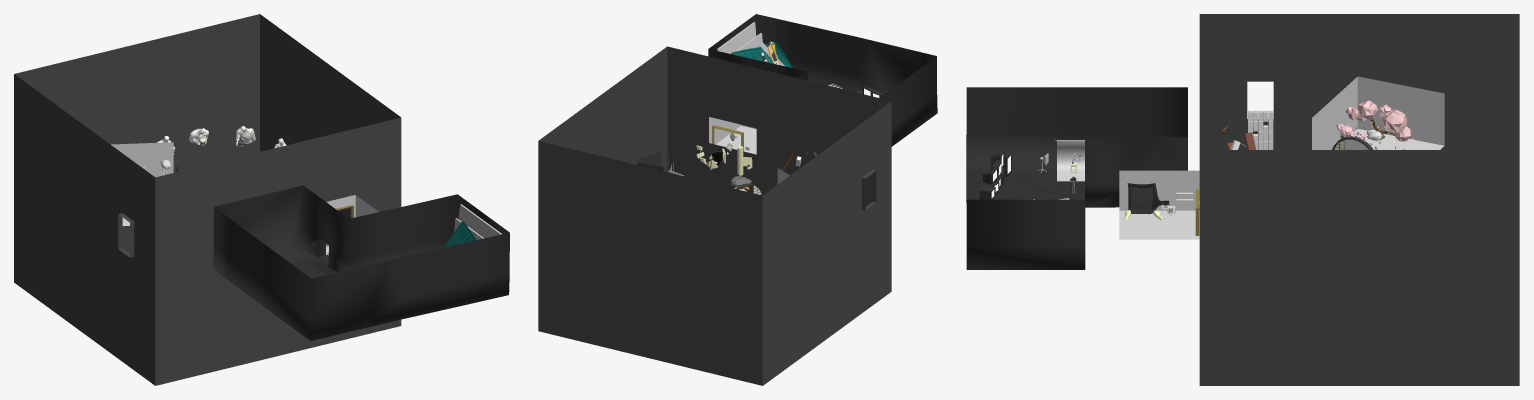
Rendered from stage-test-18.glb.
The picture shows the model from 3 angles, left to right: view 1: azimuth 30°, elevation 25°; view 2: azimuth 150°, elevation 25°; view 3: azimuth 270°, elevation 25°; orthographic projection. The views are drawn at different scales.
Visible parts, largest first — view 1: gallery-ground, monitor-screen-world, digital-world, foam-board-02, comforting-dinner-baked-johns.003, room; view 2: gallery-ground, monitor-screen-world, room, cutting-mat, foam-board-02; view 3: gallery-ground, monitor-screen-world, digital-world, room, tree-leaves-low-poly.009, photo-screen.001, glass-brick-window-modified.
Boxes of the visible parts, x1=… form: gallery-ground: x1=14, y1=14, x2=401, y2=385; monitor-screen-world: x1=213, y1=185, x2=509, y2=340; digital-world: x1=111, y1=142, x2=173, y2=226; foam-board-02: x1=459, y1=204, x2=501, y2=238; comforting-dinner-baked-johns.003: x1=157, y1=126, x2=286, y2=154; room: x1=326, y1=195, x2=378, y2=254; gallery-ground: x1=538, y1=46, x2=891, y2=385; monitor-screen-world: x1=708, y1=14, x2=937, y2=146; room: x1=709, y1=117, x2=756, y2=154; cutting-mat: x1=731, y1=40, x2=792, y2=67; foam-board-02: x1=717, y1=22, x2=756, y2=53; gallery-ground: x1=1199, y1=14, x2=1519, y2=385; monitor-screen-world: x1=966, y1=87, x2=1187, y2=269; digital-world: x1=1312, y1=76, x2=1444, y2=149; room: x1=1119, y1=170, x2=1199, y2=239; tree-leaves-low-poly.009: x1=1345, y1=100, x2=1410, y2=141; photo-screen.001: x1=1057, y1=140, x2=1084, y2=181; glass-brick-window-modified: x1=1248, y1=110, x2=1273, y2=149.
Size of the model in its own units: 423 by 329 by 699.
63 materials, 3 textured.
